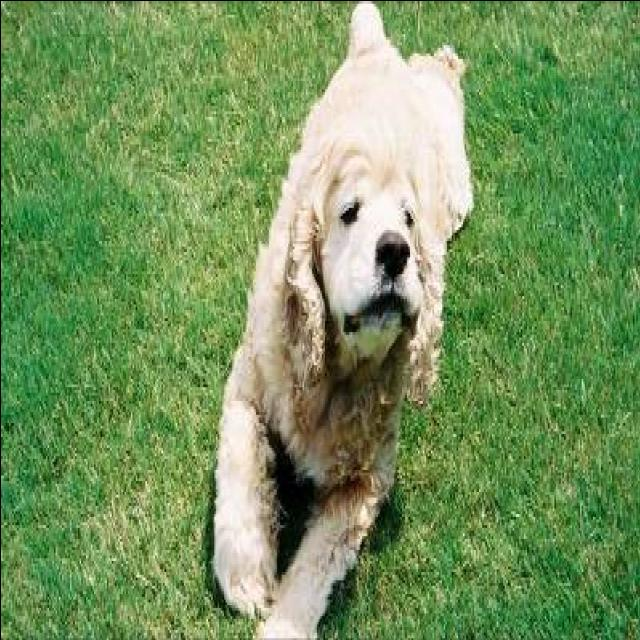dog: (197, 0, 483, 640)
